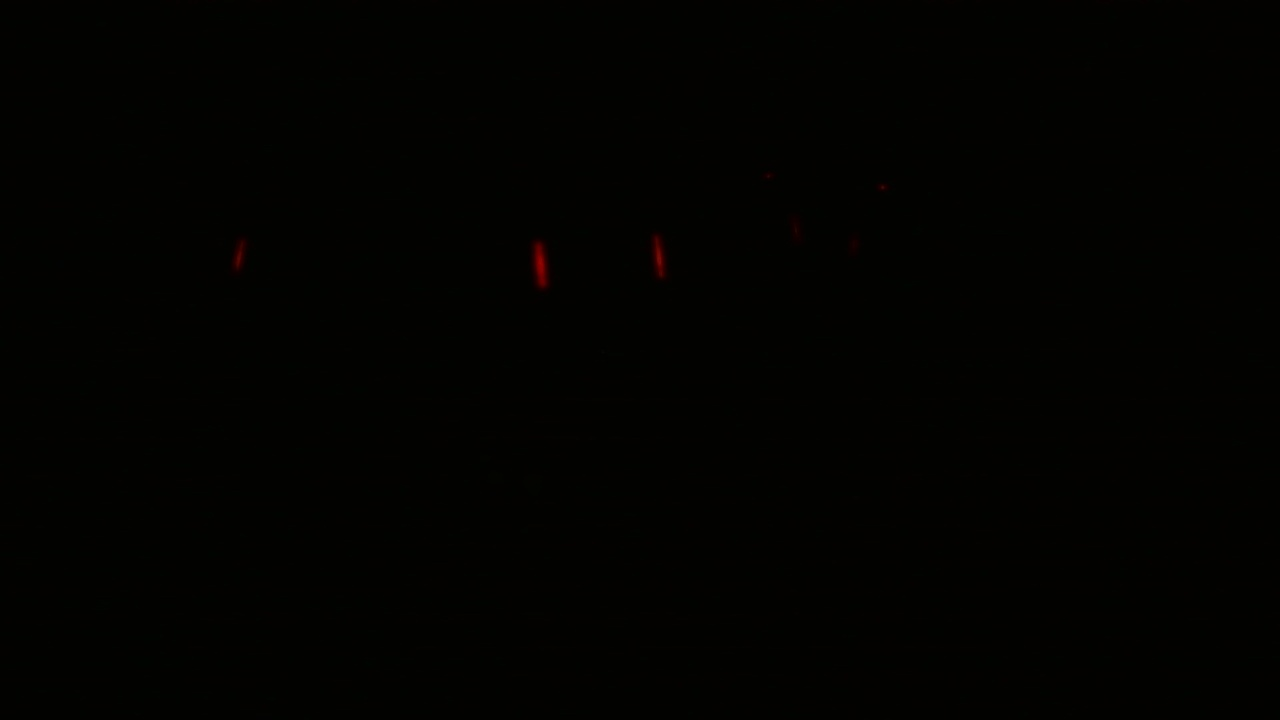pair1: (526, 227, 671, 296)
